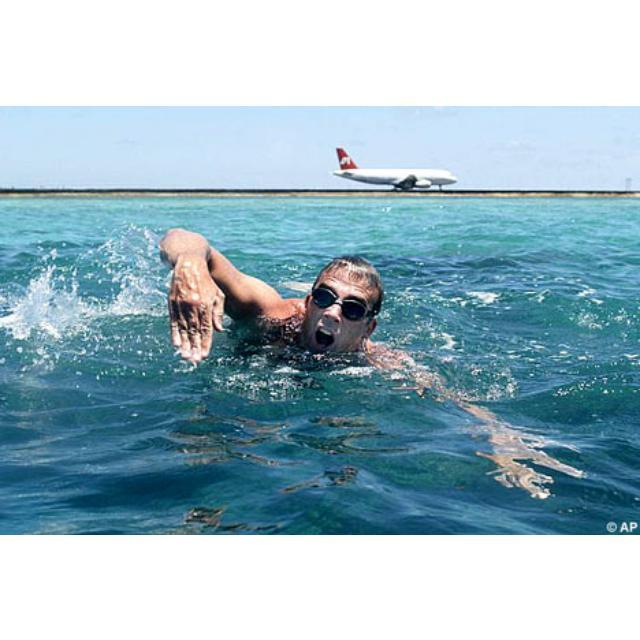human: (154, 223, 557, 493)
